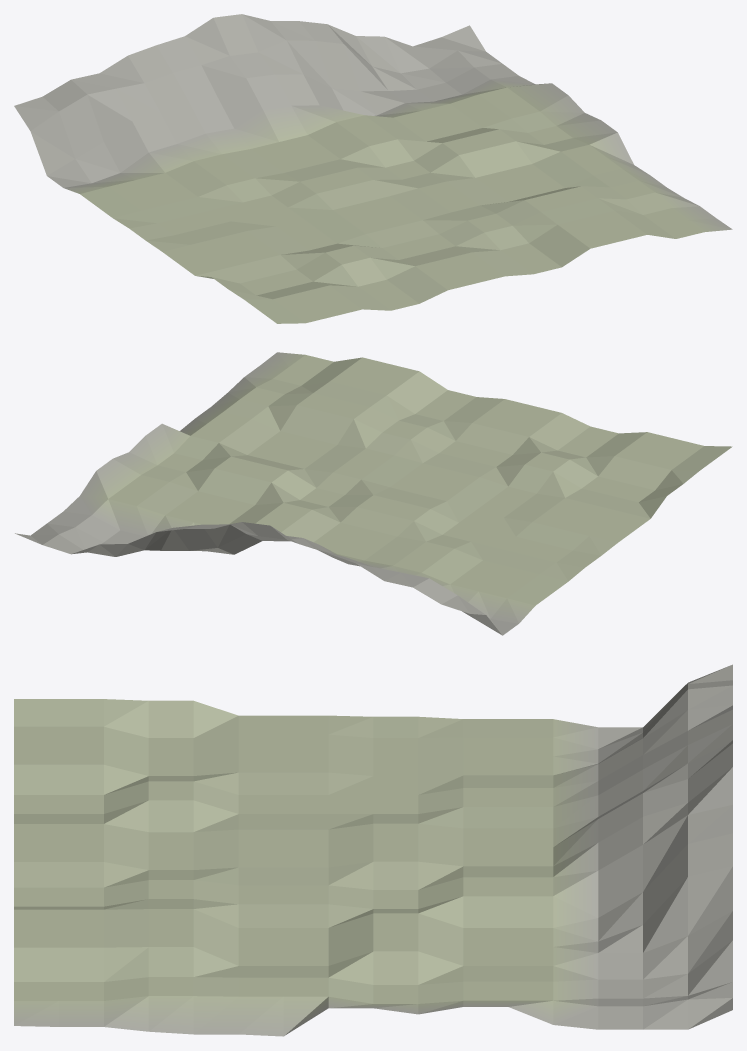
3 renders of one model, top to bottom at view 1: azimuth 30°, elevation 25°; view 2: azimuth 150°, elevation 25°; view 3: azimuth 270°, elevation 25°, orthographic. The views are drawn at different scales.
Size of the model in its own units: 32 by 6.01 by 32.
